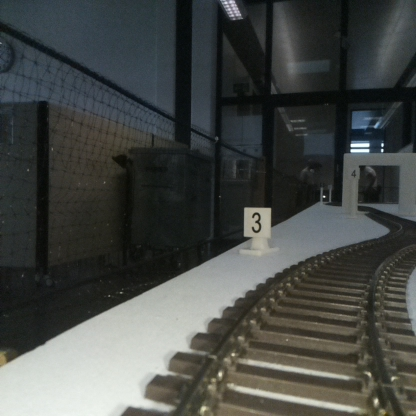white-info-4: (349, 166, 359, 216)
white-stop-3: (243, 207, 271, 252)
